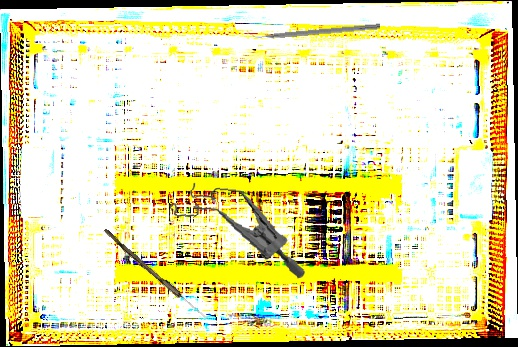Chopper: (246, 16, 381, 41)
Speculum: (161, 178, 315, 281)
Surgical Spoon: (101, 228, 210, 321)
